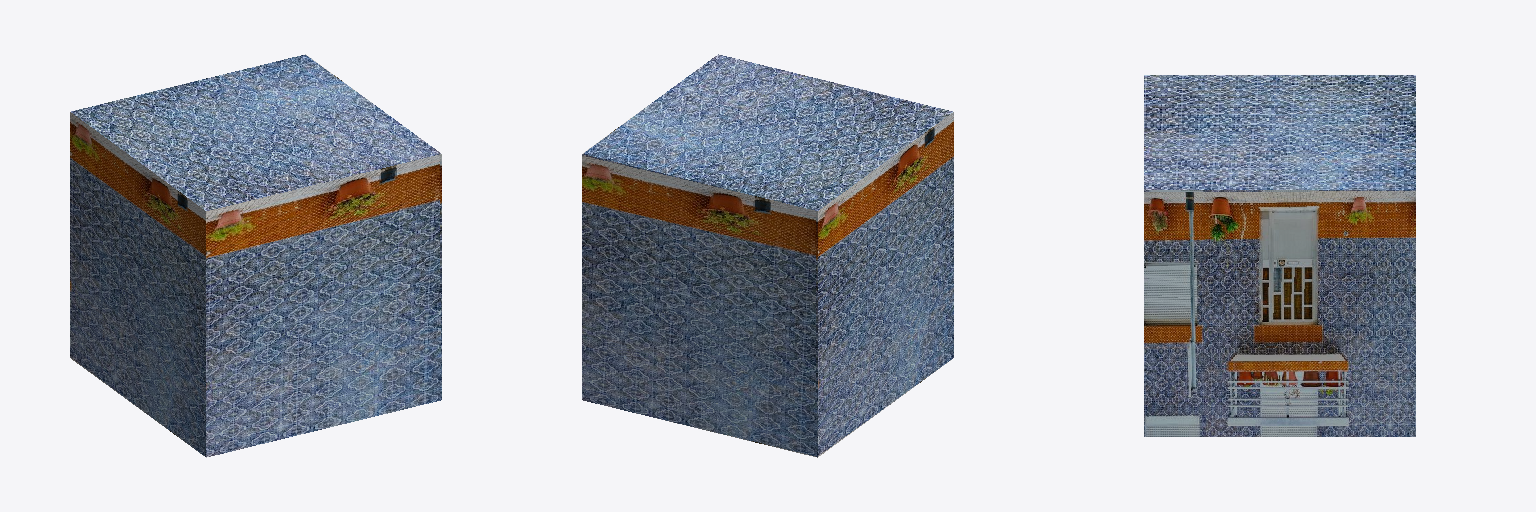
3 renders of one model, left to right at view 1: azimuth 30°, elevation 25°; view 2: azimuth 150°, elevation 25°; view 3: azimuth 270°, elevation 25°, orthographic.
Visible parts, largest first — view 1: Cube; view 2: Cube; view 3: Cube.
Boxes of the visible parts, x1=… form: Cube: x1=70, y1=54, x2=441, y2=457; Cube: x1=582, y1=54, x2=953, y2=457; Cube: x1=1144, y1=75, x2=1415, y2=436.
Size of the model in its own units: 2 by 2 by 2.
1 materials, 1 textured.